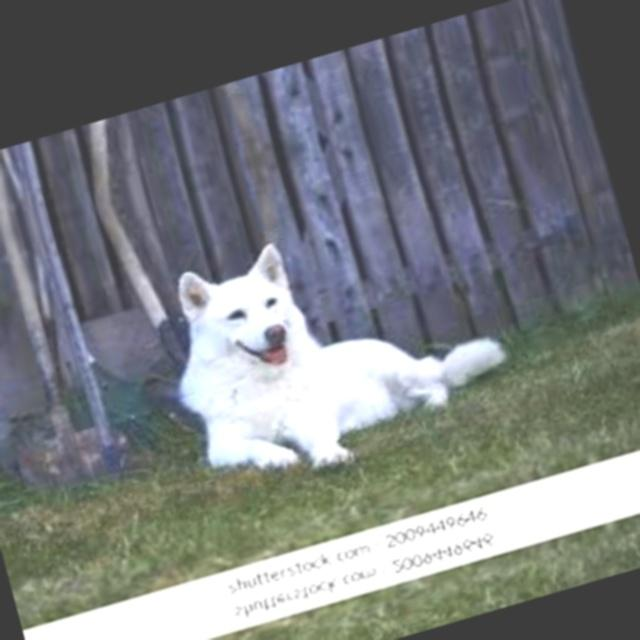dog: (136, 172, 533, 500), (96, 24, 434, 131)
